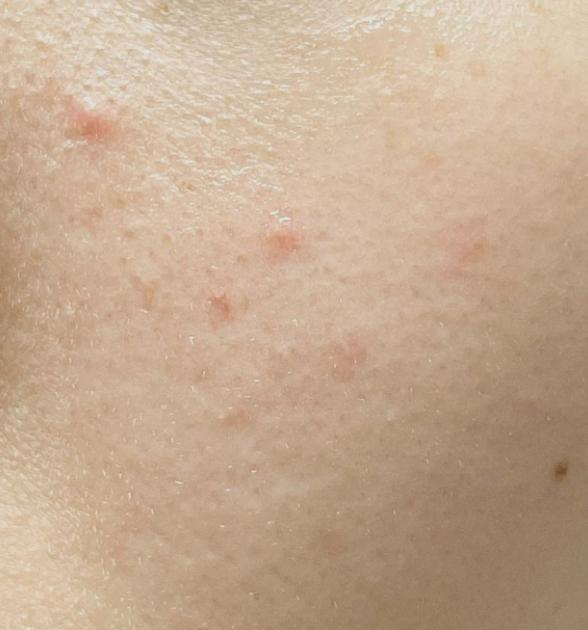papular: (58, 85, 116, 167)
whitehead: (238, 207, 324, 276), (191, 401, 250, 439)
